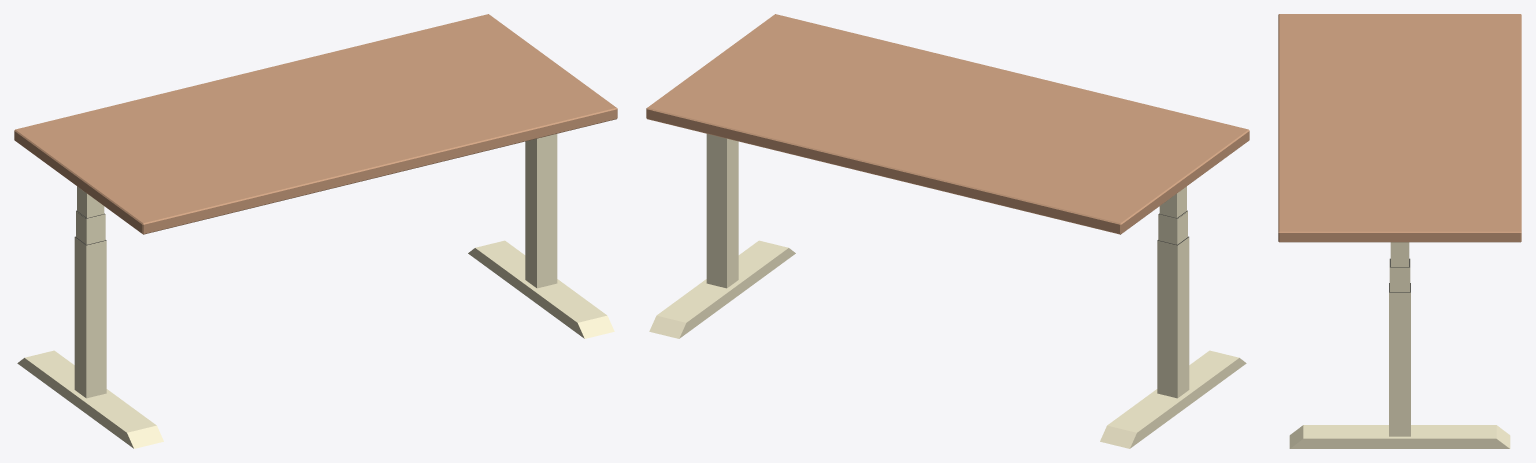
The model's file is Desk.glb.
The picture shows the model from 3 angles, left to right: view 1: azimuth 30°, elevation 25°; view 2: azimuth 150°, elevation 25°; view 3: azimuth 270°, elevation 25°; orthographic projection. The views are drawn at different scales.
Parts seen in each view (by area): view 1: Desk; view 2: Desk; view 3: Desk.
Part boxes in pixels (x1,y1,x2,y2): Desk: (14, 14, 617, 448); Desk: (646, 14, 1249, 448); Desk: (1278, 14, 1521, 448).
Size of the model in its own units: 1.76 by 0.8006 by 0.8195.
Materials: 1 (1 with a texture image).
